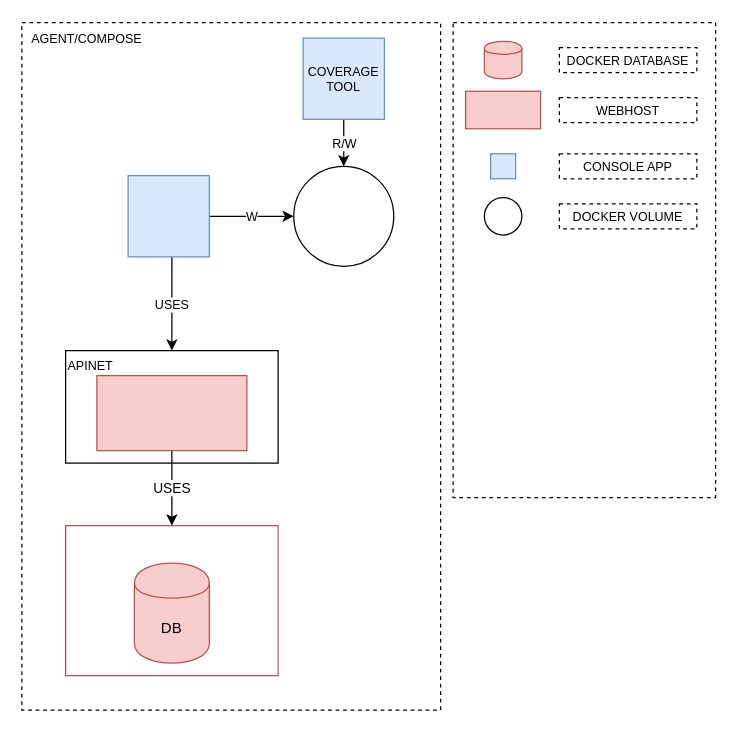
Image size: 738x731. Some labels were removed from this diagram. The shapes that lost their labels are listed below. From the top down, each one's box as (x1, y1, x2, y2) in pixels, then its label:
(127, 174, 209, 257): E2E
(292, 165, 394, 266): VOLUME TEST RESULTS COVERAGE
(96, 374, 247, 451): API
(64, 524, 278, 676): DBNET
